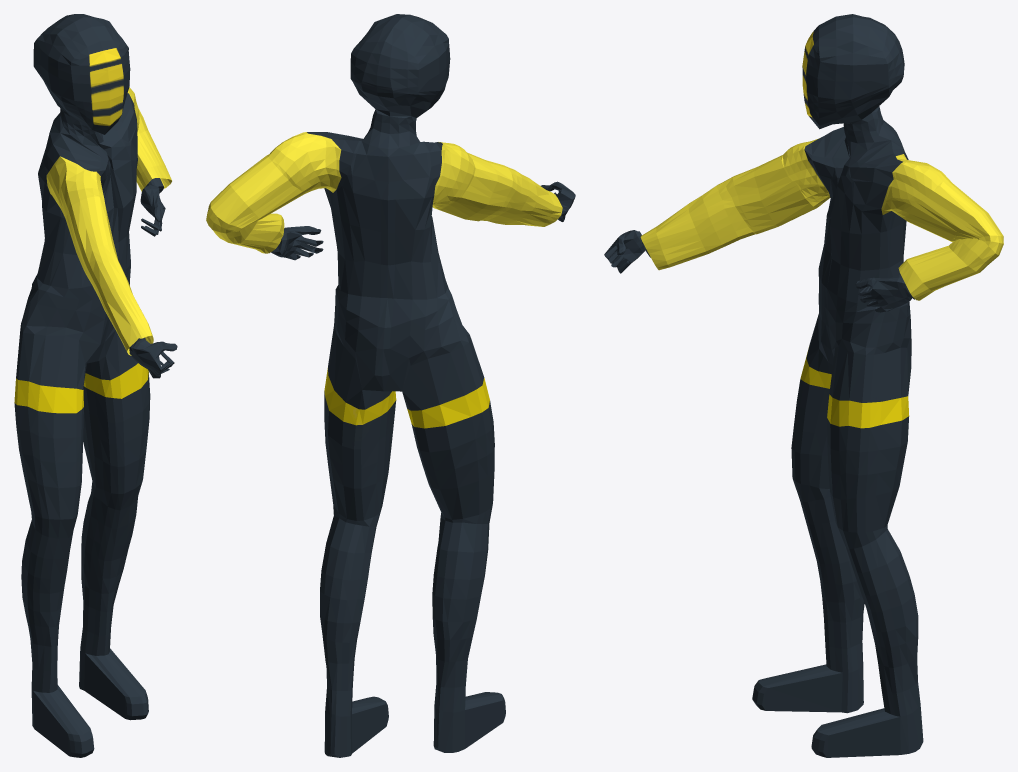
File: Sentry_WF_000014.obj
3 renders of one model, left to right at view 1: azimuth 30°, elevation 25°; view 2: azimuth 150°, elevation 25°; view 3: azimuth 270°, elevation 25°, orthographic. The views are drawn at different scales.
Parts seen in each view (by area): view 1: Cube; view 2: Cube; view 3: Cube.
Part boxes in pixels (box(x1,y1,x2,y2)): Cube: box(14, 14, 177, 757); Cube: box(206, 14, 575, 757); Cube: box(604, 14, 1003, 757).
Size of the model in its own units: 1.15 by 3.92 by 1.98.
